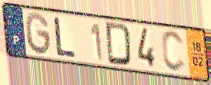1: (90, 22, 104, 61)
4: (137, 28, 157, 70)
C: (160, 29, 188, 74)
D: (104, 21, 133, 68)
G: (24, 11, 53, 57)
L: (54, 16, 78, 60)
